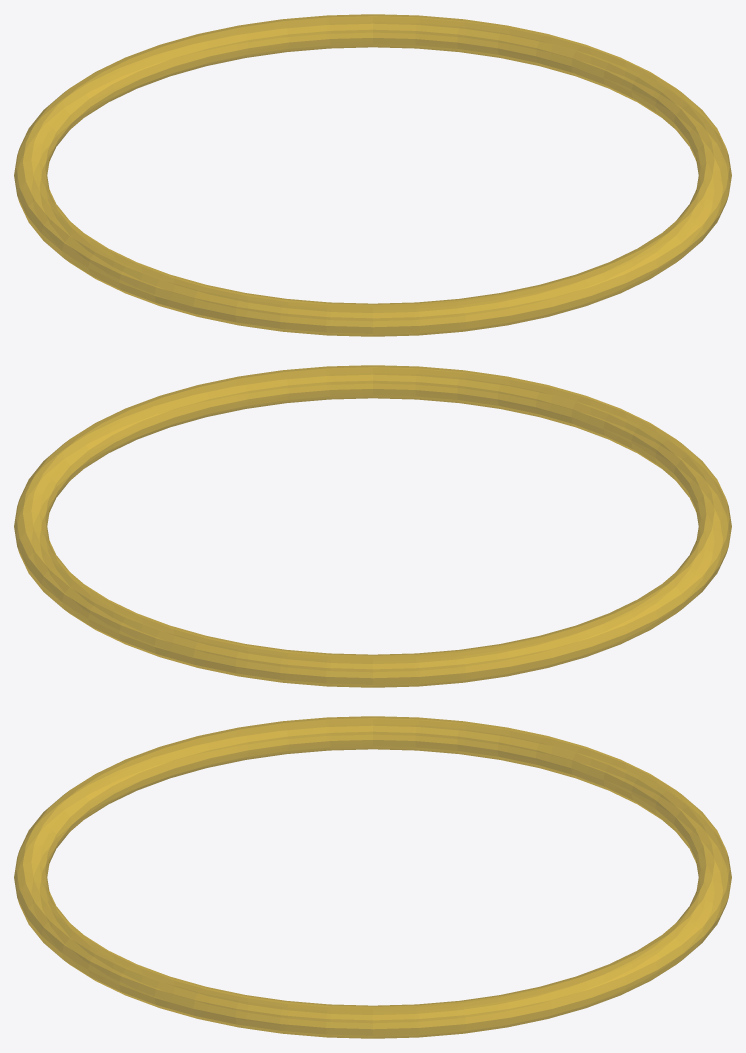
Rendered from ring.obj.
3 renders of one model, top to bottom at view 1: azimuth 30°, elevation 25°; view 2: azimuth 150°, elevation 25°; view 3: azimuth 270°, elevation 25°, orthographic.
Parts seen in each view (by area): view 1: Torus; view 2: Torus; view 3: Torus.
Boxes of the visible parts, bbox=[...] form: Torus: bbox=[14, 14, 731, 336]; Torus: bbox=[14, 365, 731, 687]; Torus: bbox=[14, 716, 731, 1038].
Bounding box in the file's own units: 2.15 × 0.0999 × 2.15.
